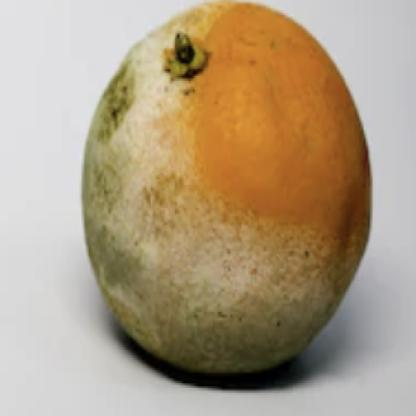rotten: (83, 6, 373, 382)
